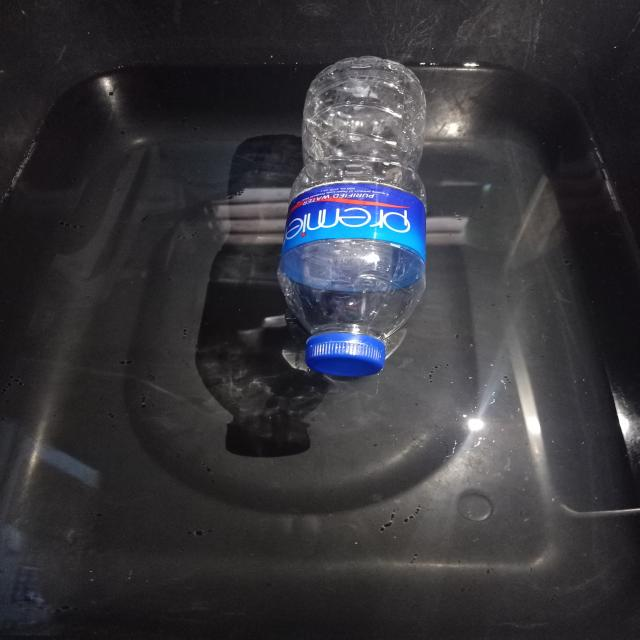Plastic Bottle: (278, 57, 426, 377)
